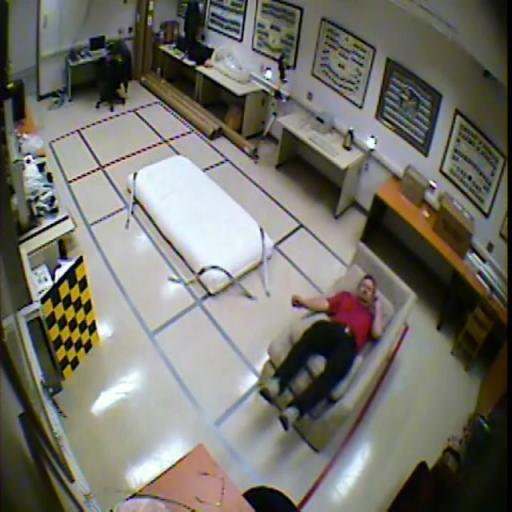Fall: (259, 273, 383, 432)
